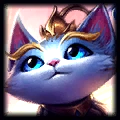Yuumi: (4, 5, 116, 116)
